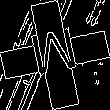M_S: (27, 26, 83, 84)
